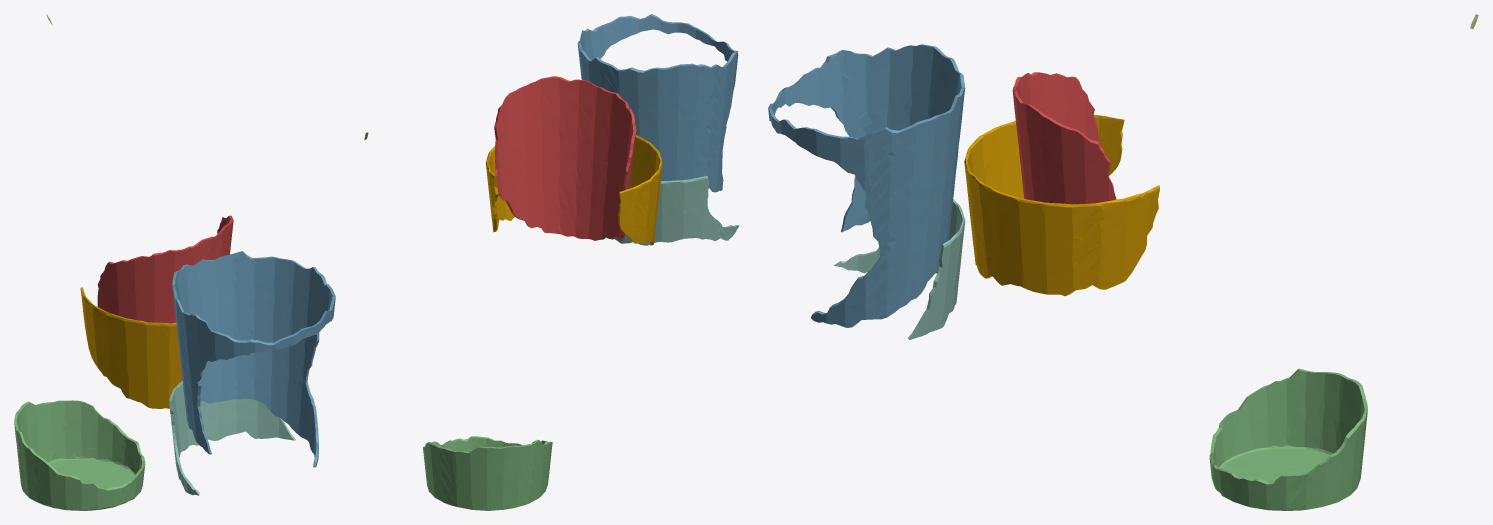
File: mode_6_6pcs_transformed.glb
3 views of the same model, side by side, from view 1: azimuth 30°, elevation 25°; view 2: azimuth 150°, elevation 25°; view 3: azimuth 270°, elevation 25° (orthographic). The views are drawn at different scales.
Parts seen in each view (by area): view 1: piece_2.obj, piece_3.obj, piece_0.obj, piece_1.obj, piece_4.obj; view 2: piece_1.obj, piece_2.obj, piece_3.obj, piece_0.obj, piece_4.obj; view 3: piece_2.obj, piece_0.obj, piece_3.obj, piece_1.obj, piece_4.obj.
Part boxes in pixels (x1,y1,x2,y2): piece_2.obj: (172,251,335,467); piece_3.obj: (14,400,145,510); piece_0.obj: (80,249,182,408); piece_1.obj: (97,215,233,323); piece_4.obj: (169,381,295,495); piece_1.obj: (494,76,636,240); piece_2.obj: (577,14,738,192); piece_3.obj: (423,436,552,510); piece_0.obj: (485,135,662,245); piece_4.obj: (614,176,739,245); piece_2.obj: (768,44,965,327); piece_0.obj: (964,115,1159,296); piece_3.obj: (1209,368,1367,510); piece_1.obj: (1012,72,1116,204); piece_4.obj: (834,199,965,339).
Size of the model in its own units: 0.6116 by 1.53 by 2.
